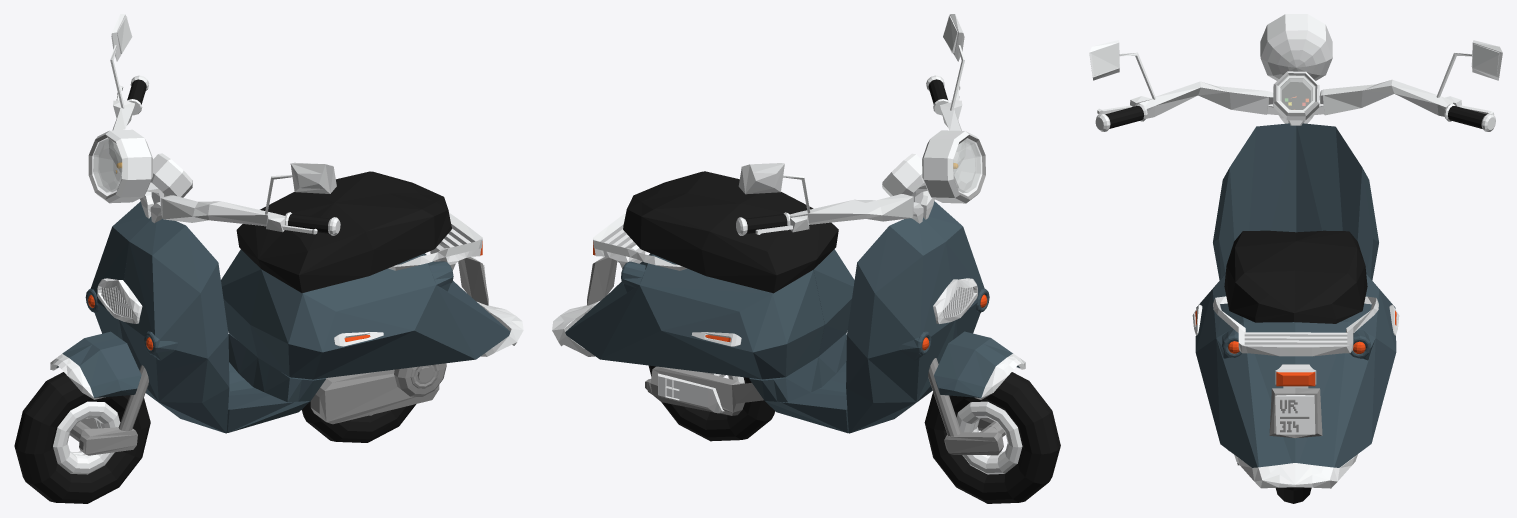
File: scooter.glb
3 views of the same model, side by side, from view 1: azimuth 30°, elevation 25°; view 2: azimuth 150°, elevation 25°; view 3: azimuth 270°, elevation 25° (orthographic).
Parts seen in each view (by area): view 1: Node; view 2: Node; view 3: Node.
Part boxes in pixels (left/top/right/bottom): Node: left=14, top=14, right=523, bottom=503; Node: left=552, top=14, right=1060, bottom=503; Node: left=1089, top=14, right=1502, bottom=503.
Size of the model in its own units: 4.86 by 3.6 by 3.52.
Materials: 2 (2 with a texture image).
